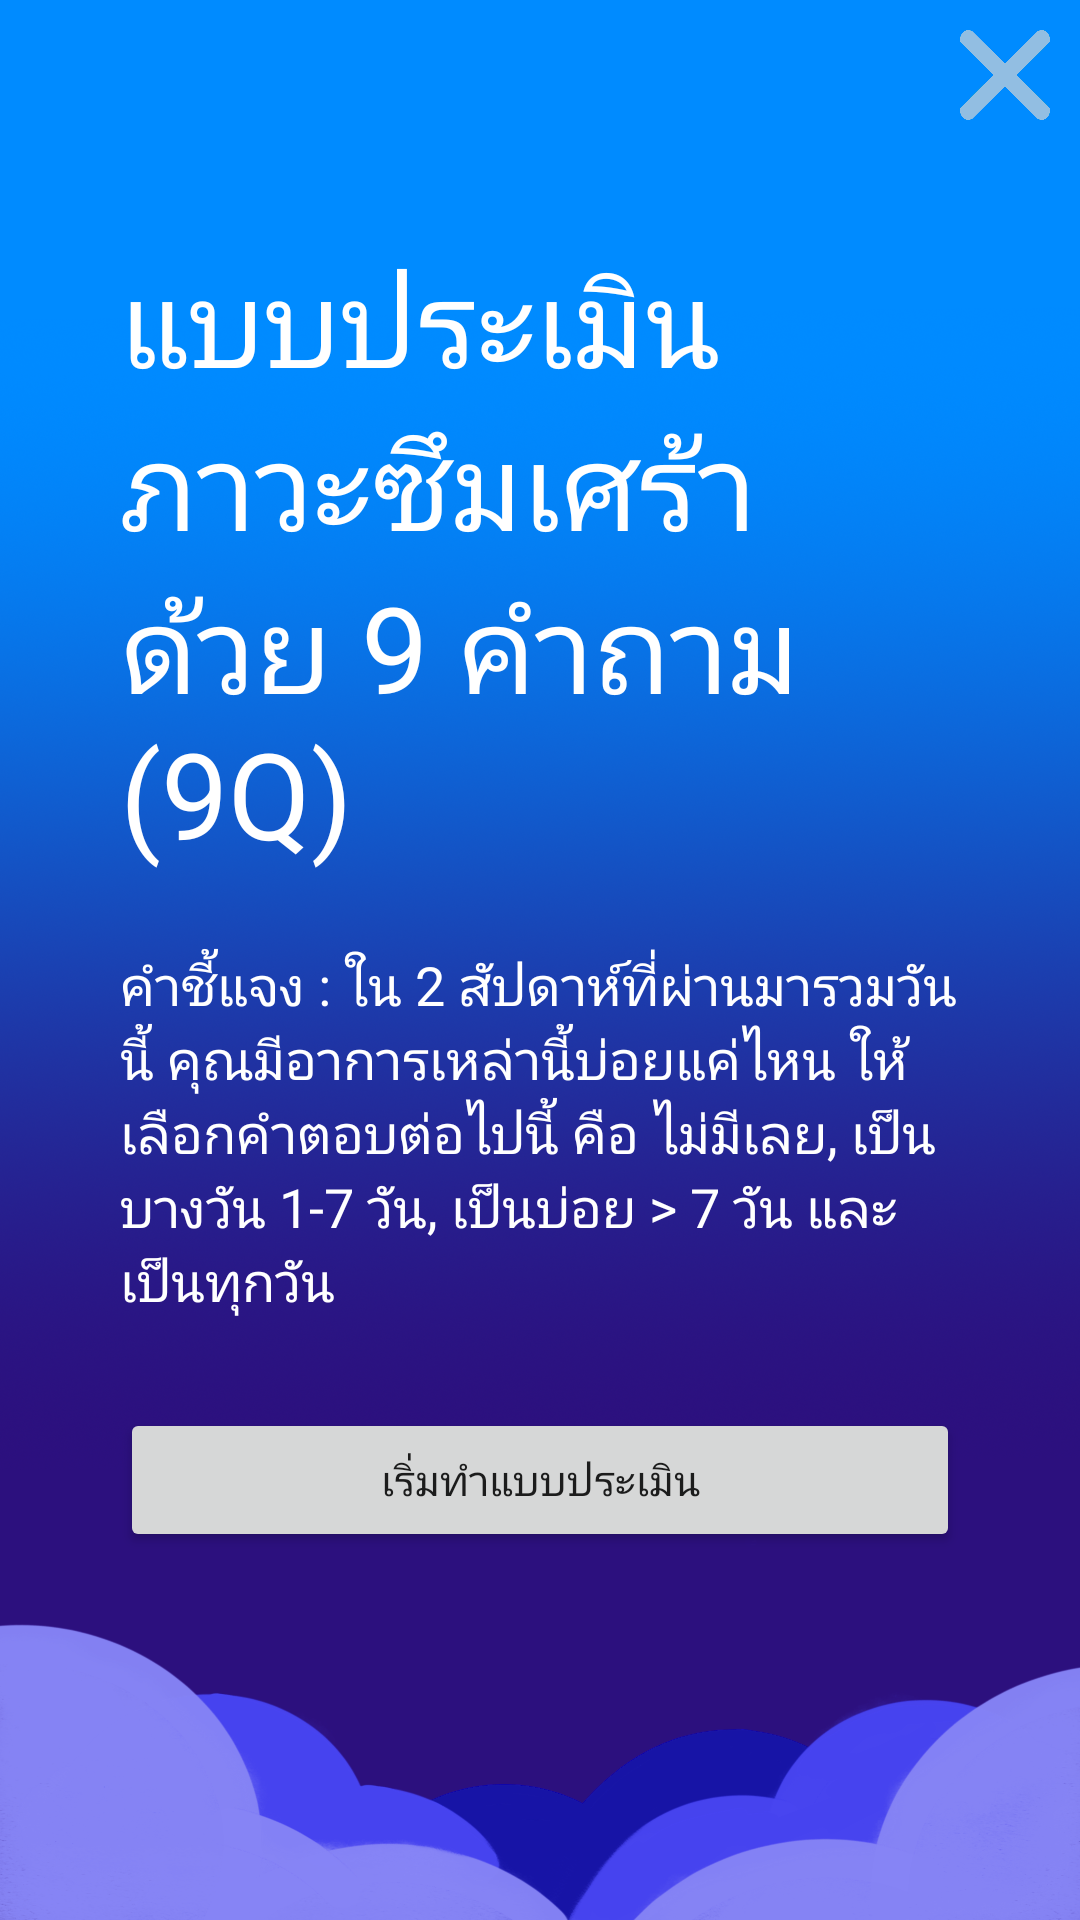

Icons on this 1080*1920 Android screen, each with its box as [x1, y1, x2, y2]:
exit: [960, 30, 1050, 120]
